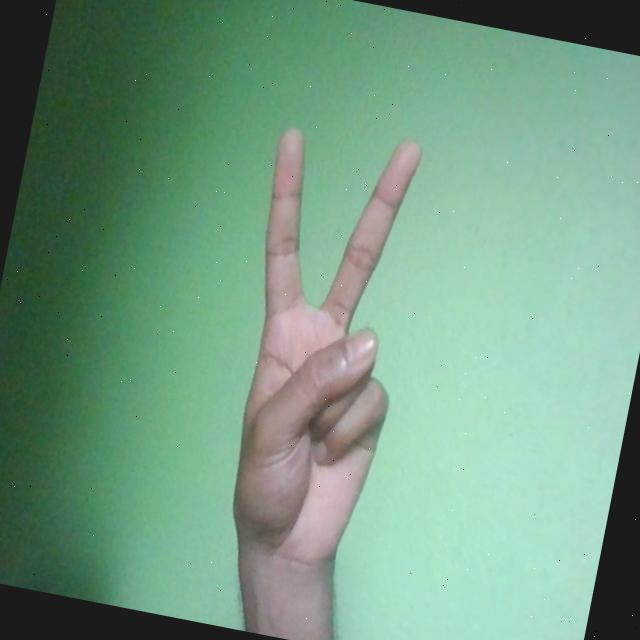Fist: (197, 115, 440, 592)
